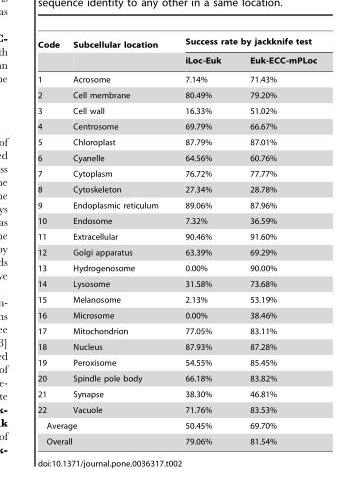table: (37, 36, 316, 445)
table column: (65, 36, 171, 445), (234, 36, 316, 445), (171, 36, 234, 445), (37, 36, 65, 445)
table column header: (37, 36, 316, 69)
table row: (37, 69, 316, 87), (37, 52, 316, 69), (37, 36, 316, 52), (37, 102, 316, 118), (37, 118, 316, 134), (37, 134, 316, 150), (37, 165, 316, 181), (37, 181, 316, 197), (37, 212, 316, 228), (37, 228, 316, 244), (37, 244, 316, 260), (37, 275, 316, 291), (37, 291, 316, 307), (37, 307, 316, 323), (37, 338, 316, 354), (37, 354, 316, 370), (37, 370, 316, 386), (37, 401, 316, 417), (37, 417, 316, 433), (37, 87, 316, 102), (37, 150, 316, 165), (37, 197, 316, 212), (37, 260, 316, 275), (37, 323, 316, 338), (37, 386, 316, 401), (37, 433, 316, 445)
table spanning cell: (65, 36, 171, 69), (171, 36, 316, 52), (37, 417, 171, 433), (37, 433, 171, 445), (37, 36, 65, 69)
